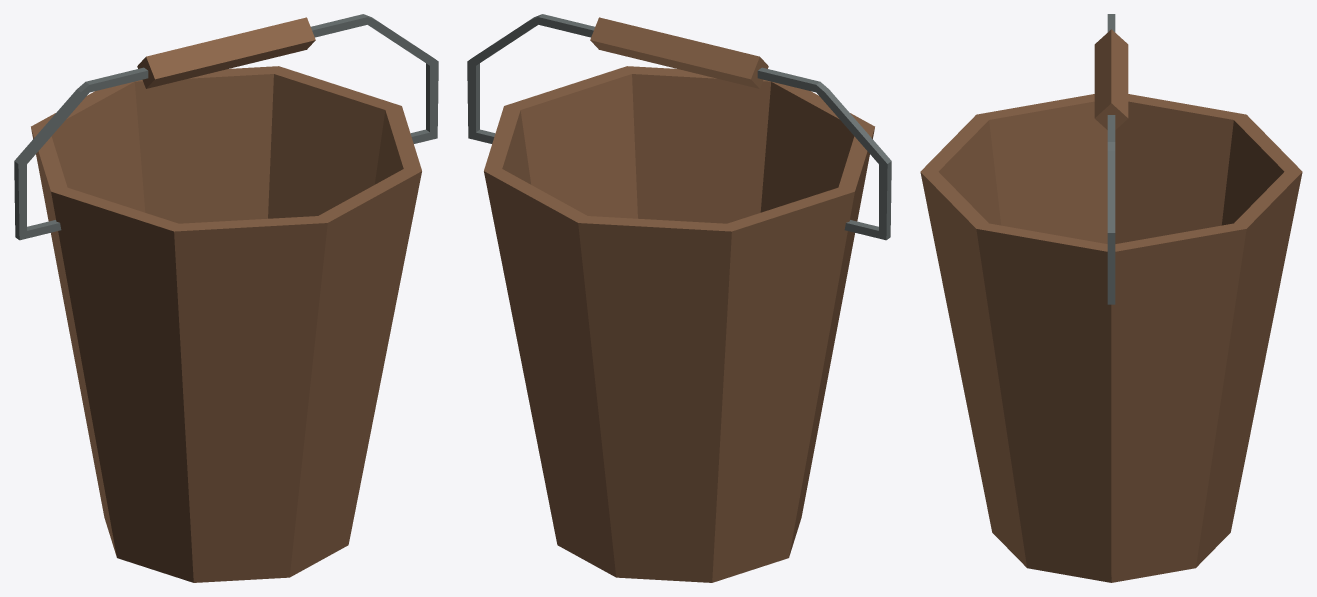
The model's file is Bucket_1_Light_Brown.fbx.
3 views of the same model, side by side, from view 1: azimuth 30°, elevation 25°; view 2: azimuth 150°, elevation 25°; view 3: azimuth 270°, elevation 25° (orthographic). The views are drawn at different scales.
Parts seen in each view (by area): view 1: Bucket_1_Light_Brown; view 2: Bucket_1_Light_Brown; view 3: Bucket_1_Light_Brown.
Boxes of the visible parts, x1,y1,x2,y2 form: Bucket_1_Light_Brown: (14, 14, 438, 582); Bucket_1_Light_Brown: (467, 14, 891, 582); Bucket_1_Light_Brown: (920, 14, 1302, 582).
Bounding box in the file's own units: 57.5 × 64.62 × 48.
